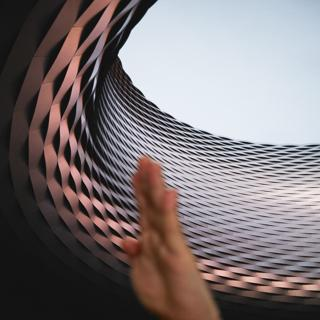RIGHT: (117, 152, 219, 320)
